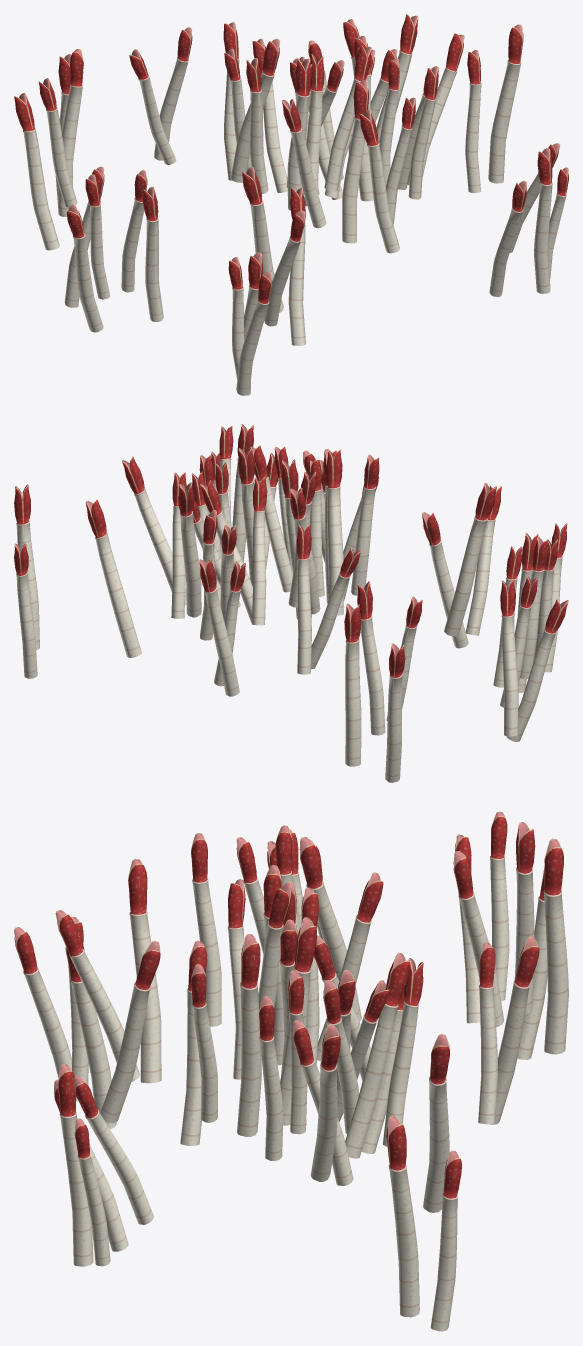
File: tubeWorms00a.fbx
The picture shows the model from 3 angles, top to bottom: view 1: azimuth 30°, elevation 25°; view 2: azimuth 150°, elevation 25°; view 3: azimuth 270°, elevation 25°; orthographic projection. The views are drawn at different scales.
Parts seen in each view (by area): view 1: tubeWorm_1.031; view 2: tubeWorm_1.031; view 3: tubeWorm_1.031.
Part boxes in pixels (x1,y1,x2,y2): tubeWorm_1.031: [14, 14, 568, 395]; tubeWorm_1.031: [14, 424, 568, 782]; tubeWorm_1.031: [14, 811, 568, 1331].
Size of the model in its own units: 10.43 by 5.38 by 7.61.
1 material, 1 textured.
